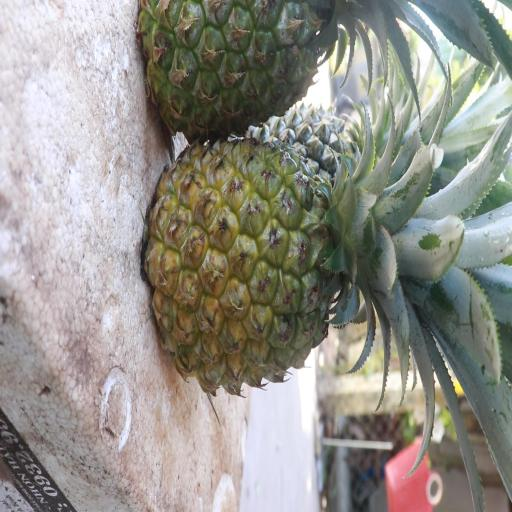------------------------------: (139, 0, 382, 145)
Pineapple - v8 v1: (146, 140, 408, 383)
